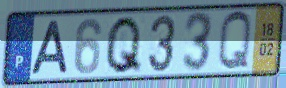3: (181, 10, 214, 75), (145, 13, 176, 74)
6: (72, 16, 103, 76)
A: (28, 19, 71, 77)
Q: (103, 14, 144, 76), (216, 9, 253, 74)
